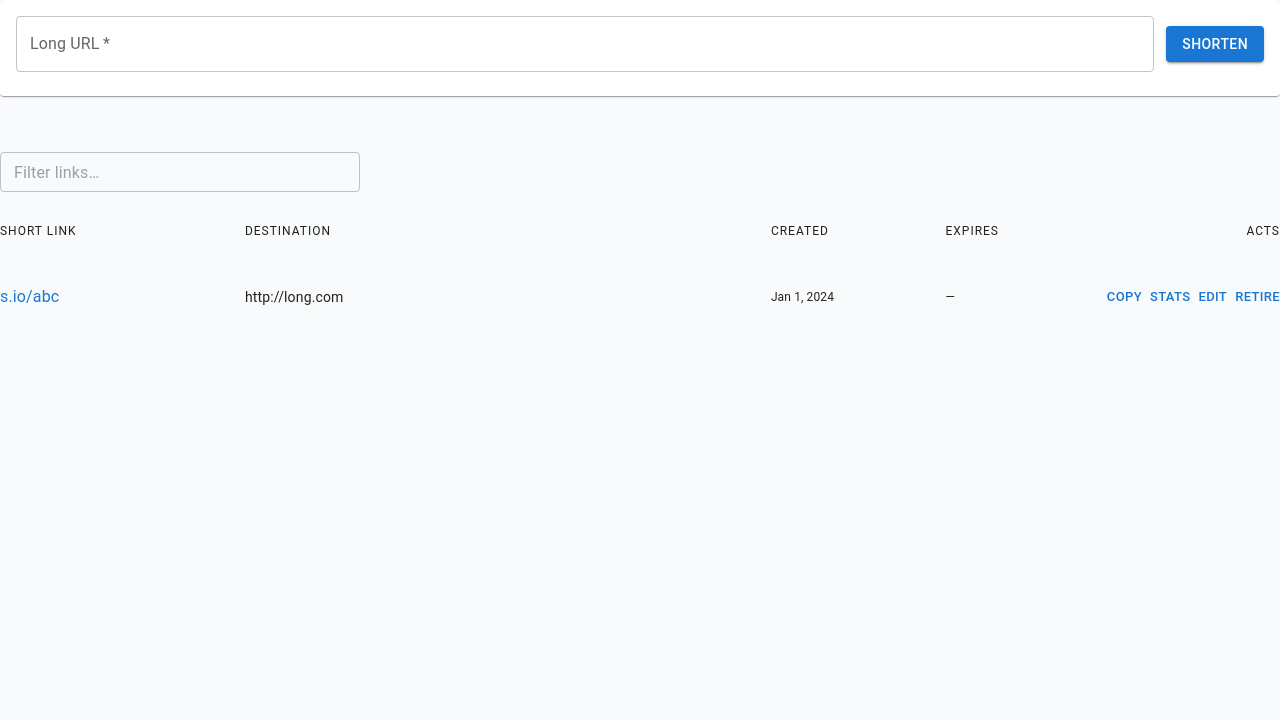
Test: DashboardPage › pins delete failure surfaces in the links-table error slot
The width and height of the screenshot is (1280, 720).
Expected: the element with test id "link-row-abc" is shown, [0,284,1279,311]
What coordinates should you click on to do the following:
click the button with test id "delete-abc"
I would click on:
 (1258, 297)
Its box is [1235,284,1279,311].
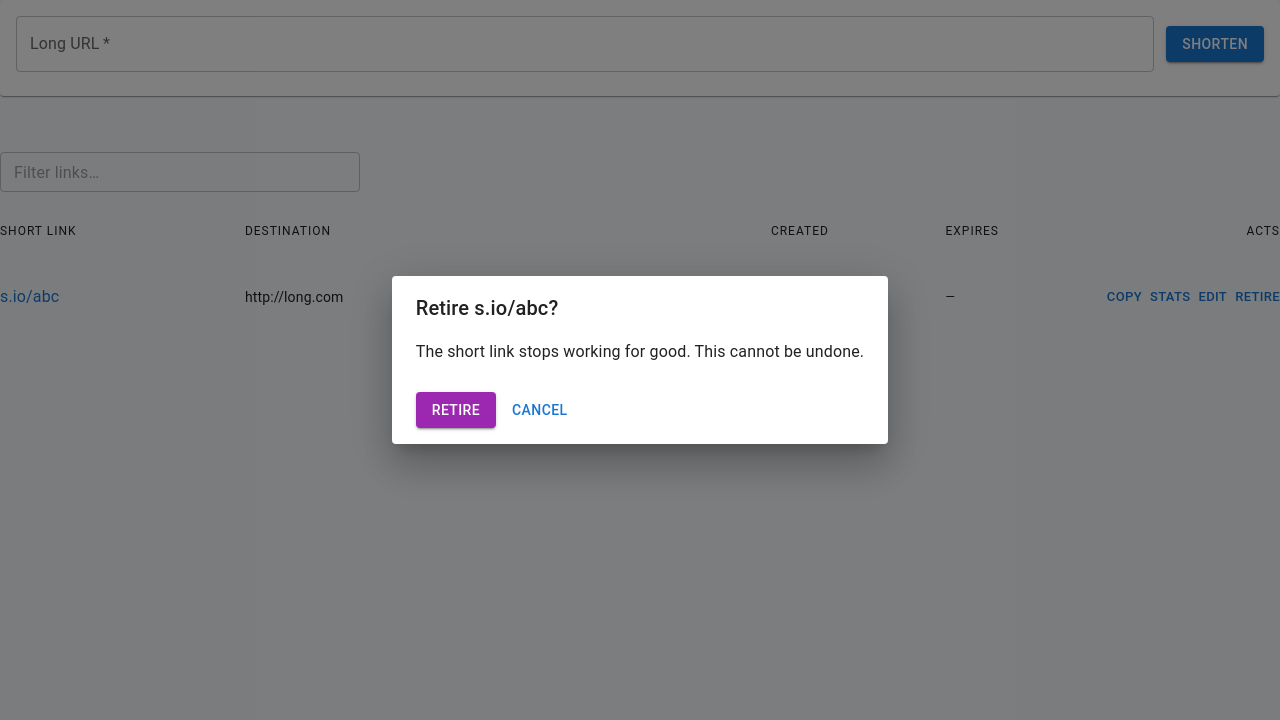
Expected: the button with test id "delete-confirm" is shown
What coordinates should you click on to do the following:
click the button with test id "delete-confirm"
I would click on:
 (456, 410)
Its box is [416,392,496,428].
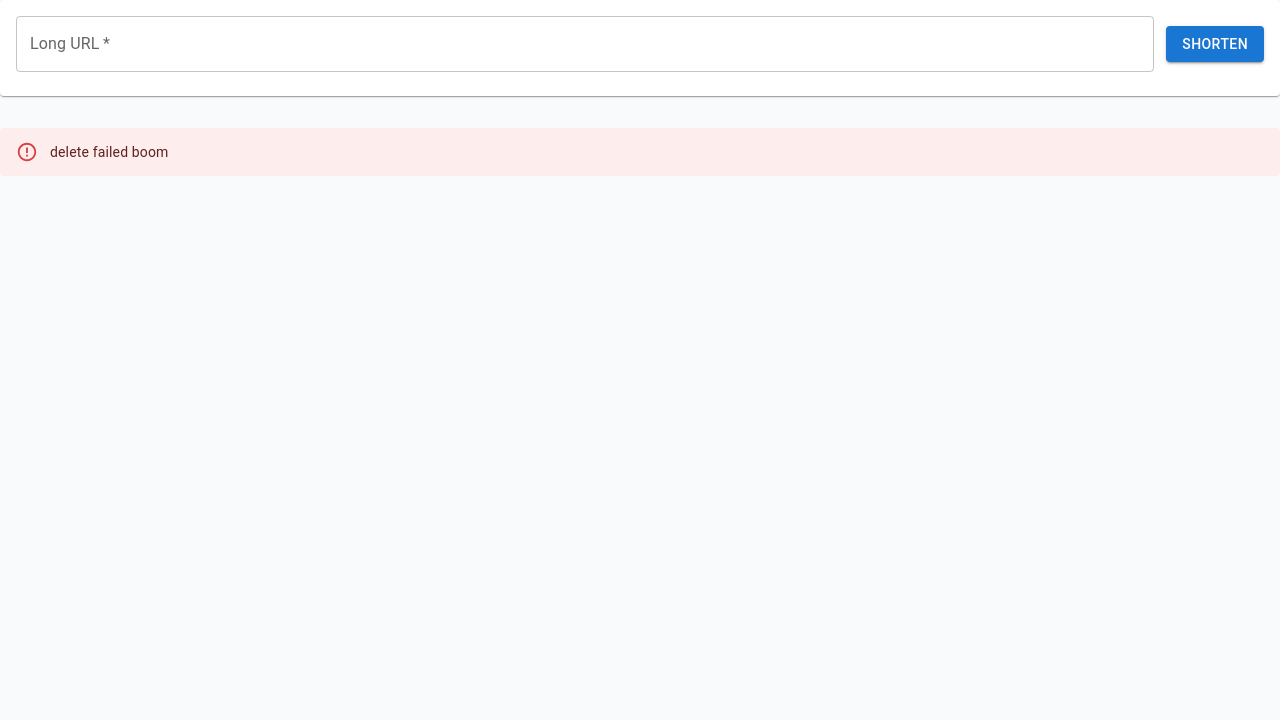
Expected: the message "delete failed boom" is shown, [0,128,1279,176]
Expected: the message with test id "links-table-error" reads "delete failed boom", [50,144,168,160]
